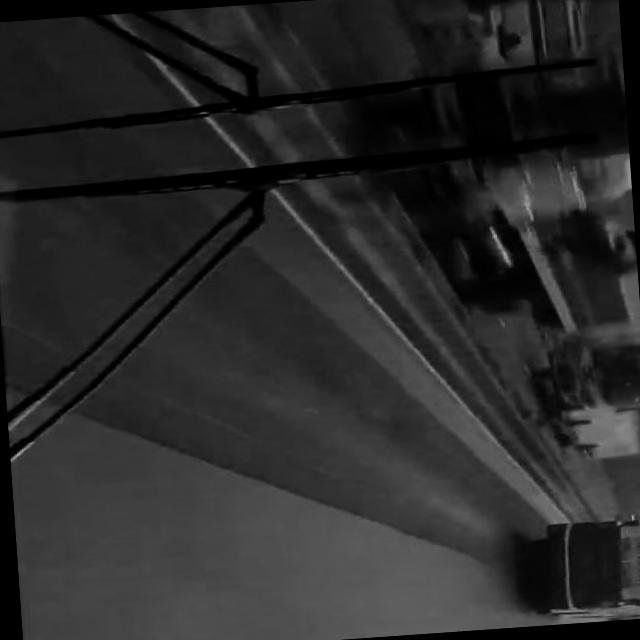bus: (536, 340, 640, 466), (529, 516, 640, 623), (494, 0, 580, 72)
truck: (374, 66, 640, 345)
